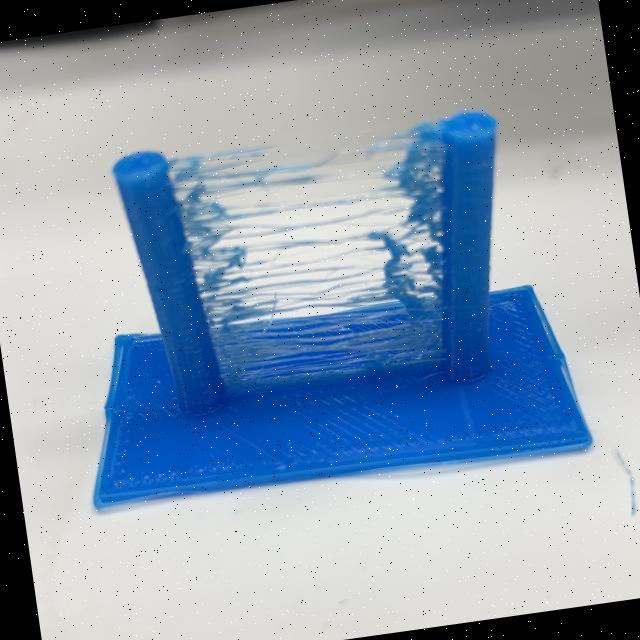stringing: (171, 119, 442, 397)
